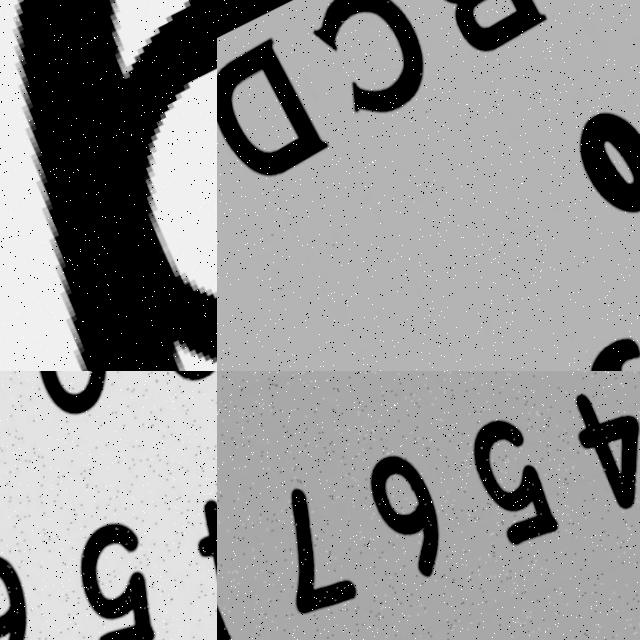0: (0, 371, 176, 470), (550, 82, 640, 256)
4: (526, 371, 640, 548), (145, 454, 217, 640)
5: (421, 380, 624, 600), (23, 486, 217, 640)
6: (321, 415, 521, 633), (0, 519, 107, 640)
7: (219, 456, 408, 640)
9: (89, 371, 217, 449)
G: (0, 0, 217, 371)
